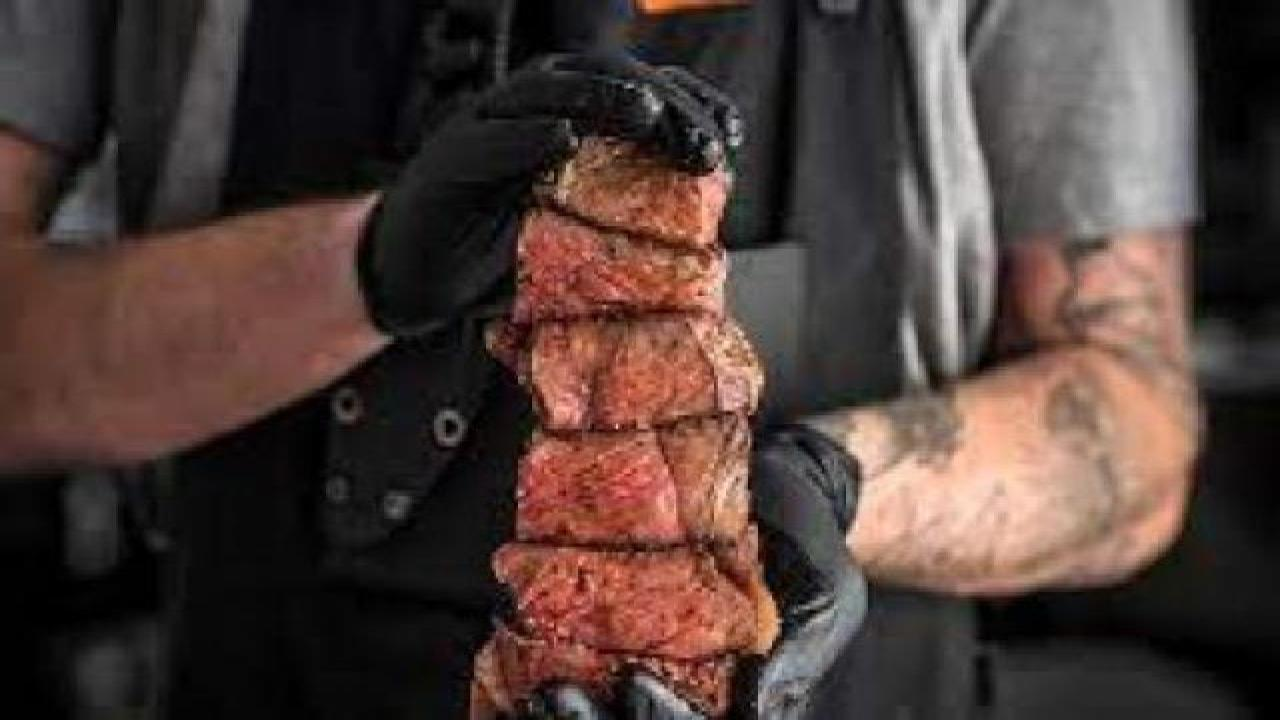Carne: (450, 119, 786, 706)
